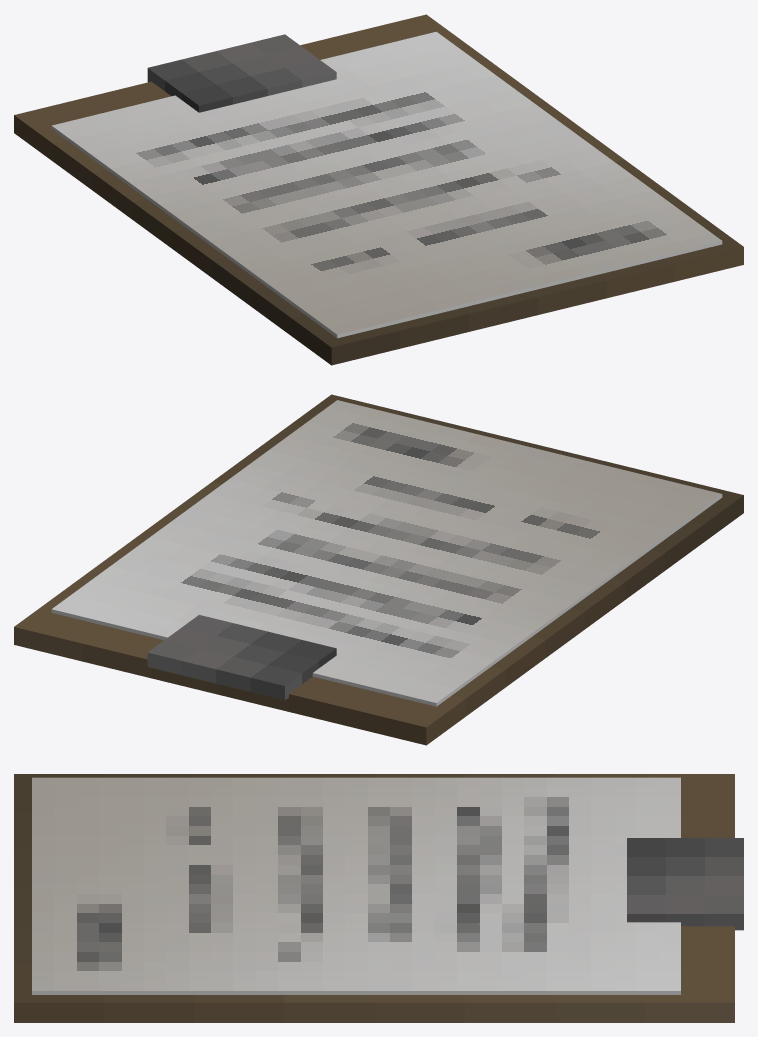
Rendered from clipboard.gltf.
3 renders of one model, top to bottom at view 1: azimuth 30°, elevation 25°; view 2: azimuth 150°, elevation 25°; view 3: azimuth 270°, elevation 25°, orthographic. The views are drawn at different scales.
Visible parts, largest first — view 1: Paper, Board, Clip; view 2: Paper, Board, Clip; view 3: Paper, Board, Clip.
Boxes of the visible parts, bbox=[...] form: Paper: bbox=[51, 31, 722, 338]; Board: bbox=[14, 14, 743, 365]; Clip: bbox=[147, 34, 336, 112]; Paper: bbox=[51, 400, 722, 706]; Board: bbox=[14, 394, 743, 745]; Clip: bbox=[147, 615, 336, 700]; Paper: bbox=[32, 777, 680, 994]; Board: bbox=[14, 774, 734, 1022]; Clip: bbox=[627, 838, 743, 930].
Size of the model in its own units: 0.1875 by 0.0125 by 0.2531.
Materials: 3 (3 with a texture image).
